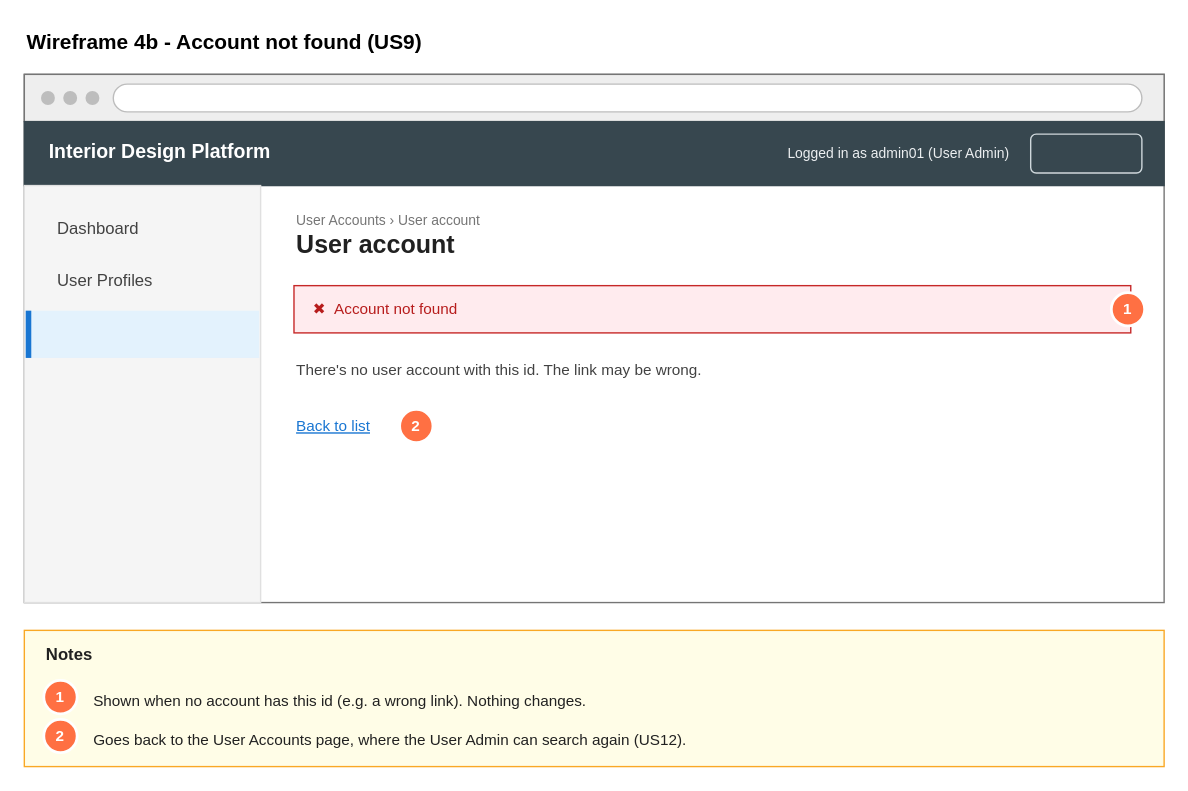
Image size: 1188x791. Some labels were removed from this diagram. The centre of each missing label's shape, as x and y in pixels:
localhost:5000/accounts/9999: the point at 627,97
Log out: the point at 1085,153
User Accounts: the point at 142,333
